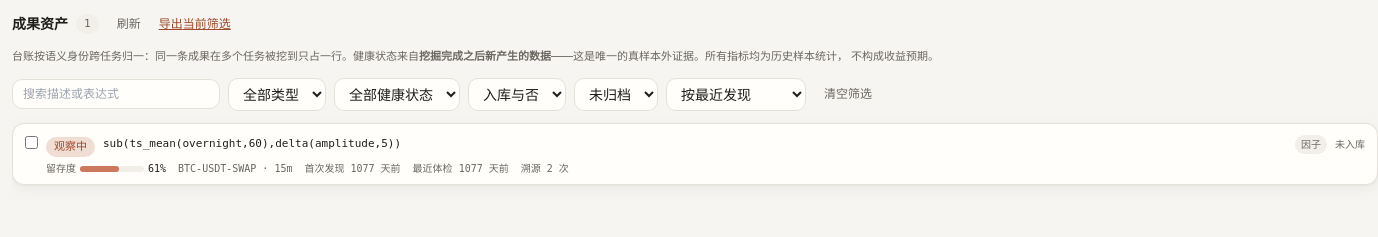
DiscoveryAssets › 筛选无结果：给「清空筛选」而不是让用户以为资产没了
Expected: the button "sub(ts_mean(overnight,60),delta(amplitude,5))" is shown, [103,136,1287,153]
Select "已衰减" in the dropdown named "健康状态": coordinates (397, 94) [334,78,460,111]
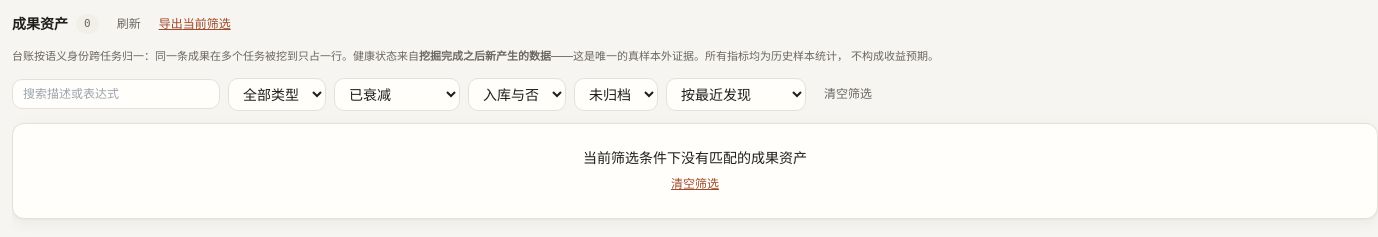
Expected: the 1st button "清空筛选" is shown, [814,82,882,106]
Expected: the text "当前筛选条件下没有匹配的成果资产" is shown, [583,149,807,166]
